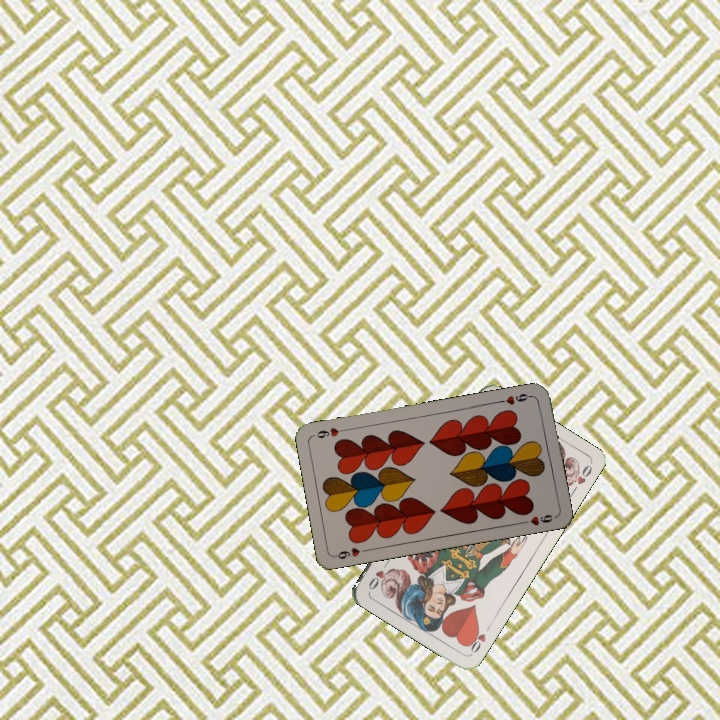H9: (331, 544, 371, 562), (495, 389, 535, 407)
HO: (463, 621, 494, 657)
